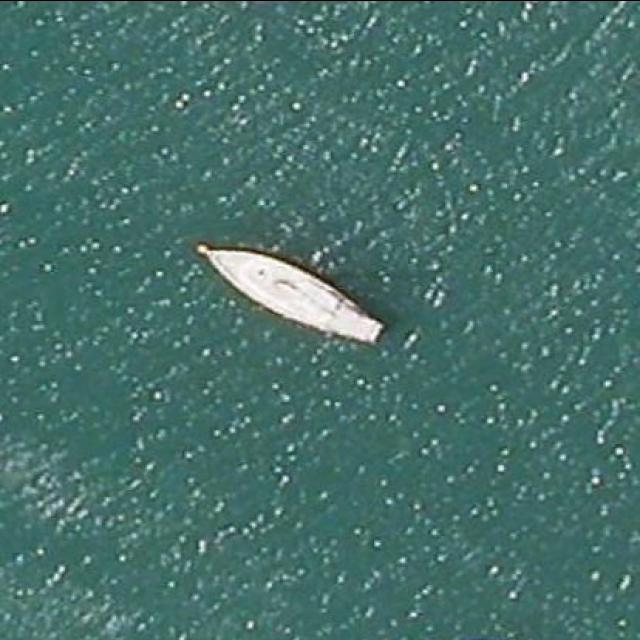ship: (193, 246, 385, 345)
